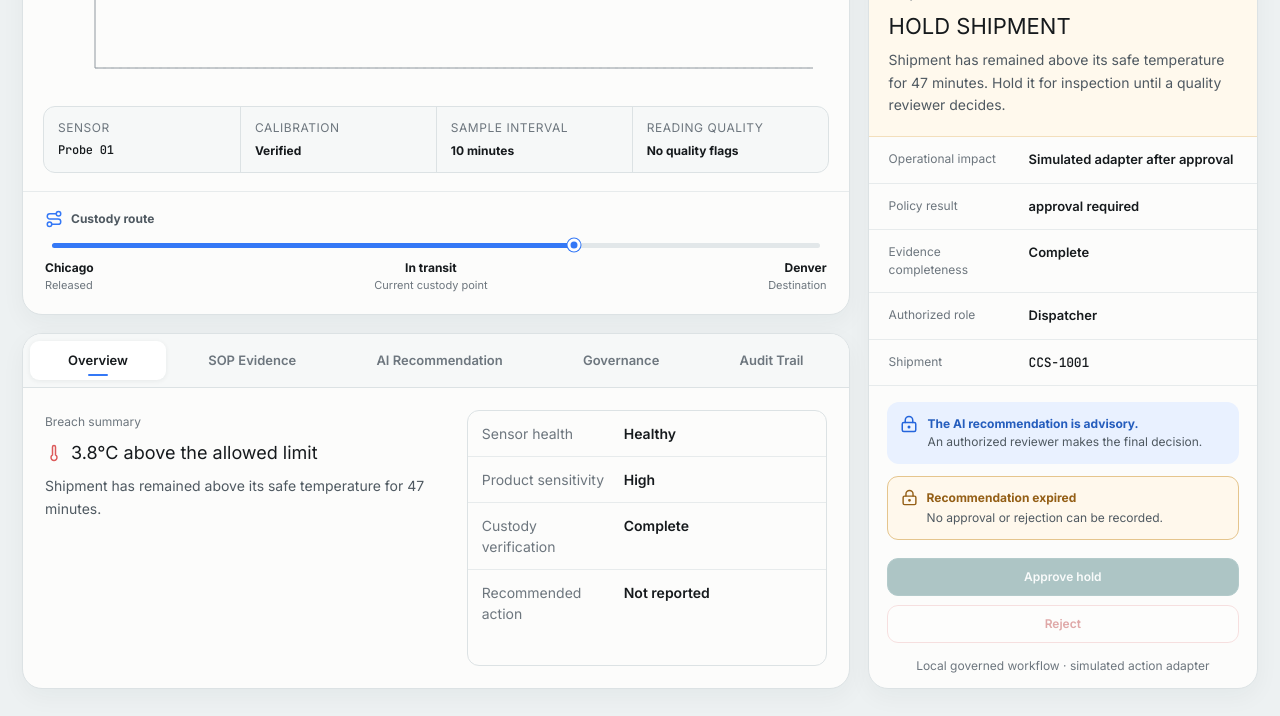
canonical investigation presentation › keeps historical expiry truth while independently blocking an expired recommendation
(page scrolled)
Expected: the button "Approve hold" is disabled, [887, 558, 1239, 596]
Expected: the button "Reject" is disabled, [887, 605, 1239, 643]
Click the tab "Governance": (621, 361) [545, 341, 697, 380]
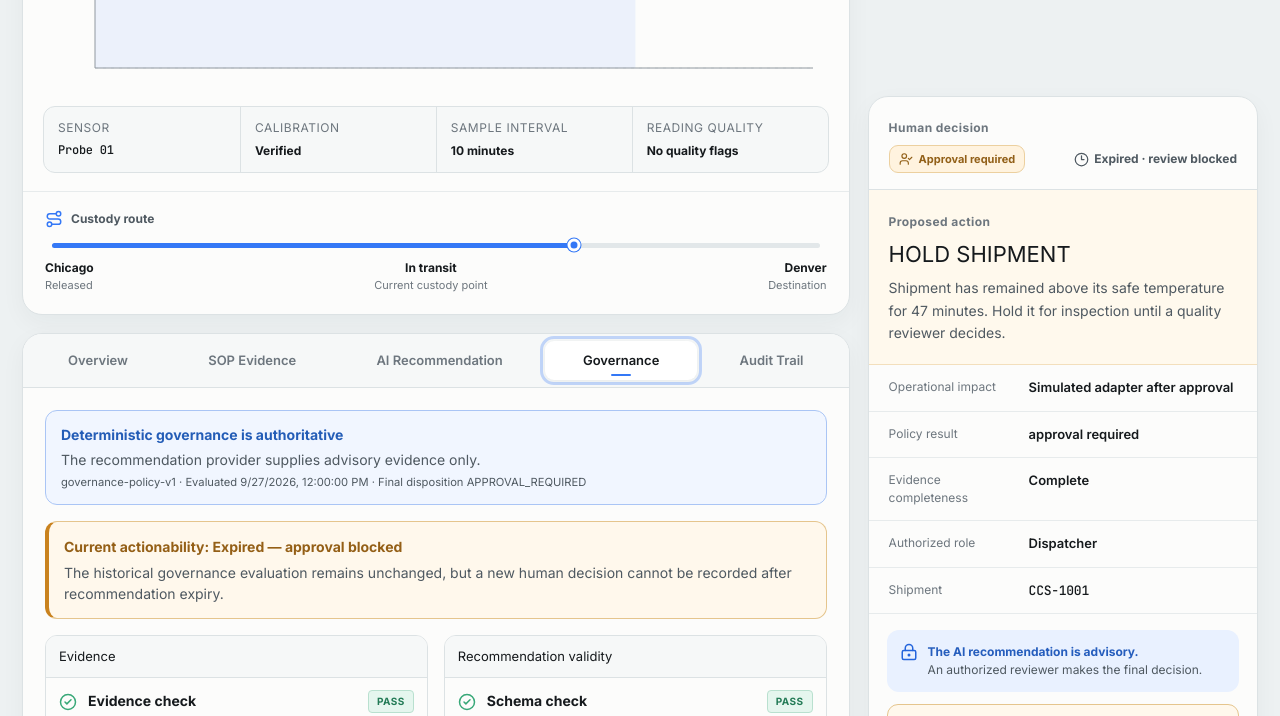
Expected: the text "Current actionability: Expired — approval blocked" is shown, [64, 538, 402, 555]
Expected: the text "The historical governance evaluation remains unchanged, but a new human decision cannot be recorded after recommendation" is shown, [64, 564, 792, 602]
Expected: the text "Final disposition APPROVAL_REQUIRED" is shown, [61, 475, 586, 489]
